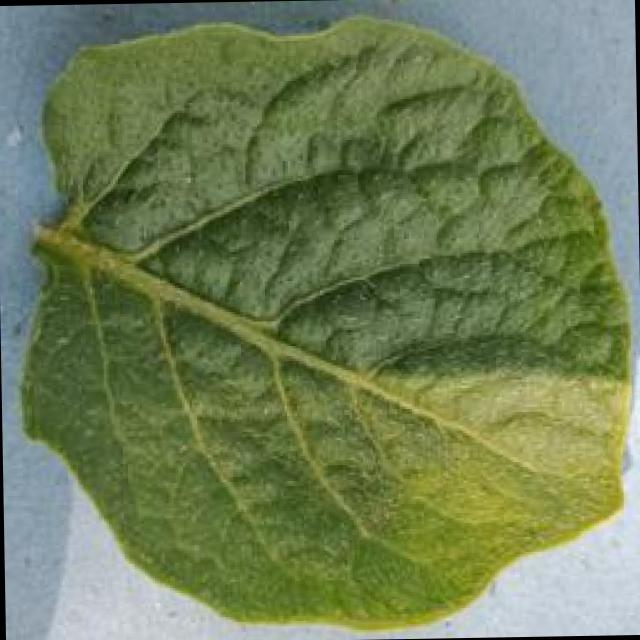Potato_Healthy: (0, 10, 636, 640)
